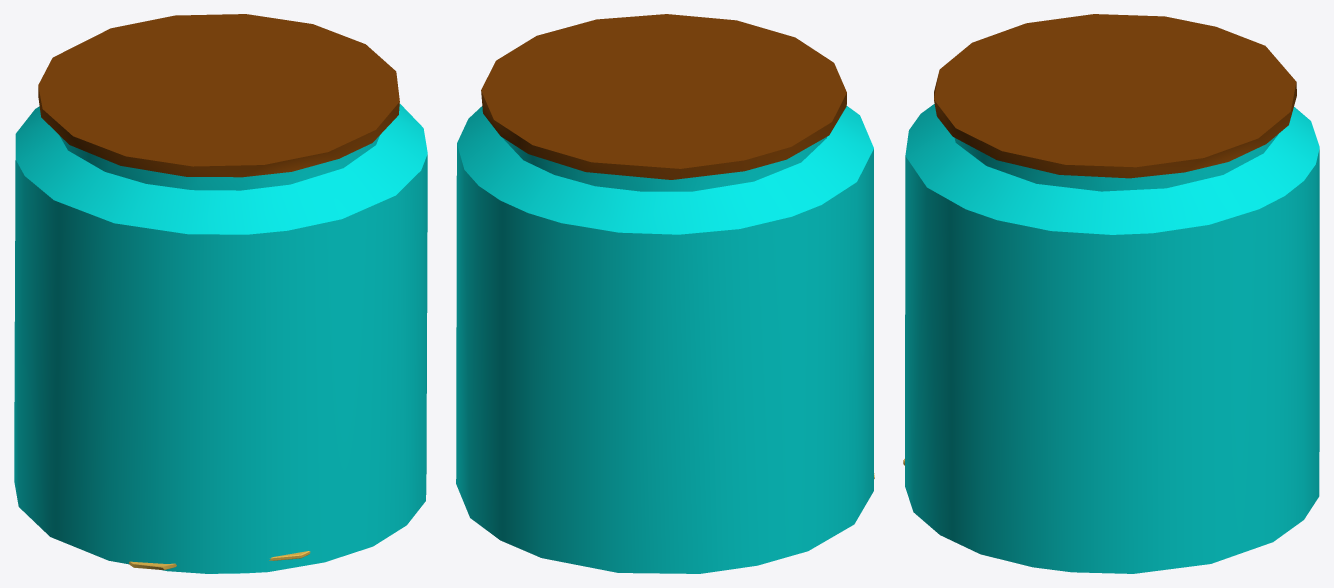
Rendered from Jar_With_Coins_Textured_.fbx.
3 views of the same model, side by side, from view 1: azimuth 30°, elevation 25°; view 2: azimuth 150°, elevation 25°; view 3: azimuth 270°, elevation 25° (orthographic).
Visible parts, largest first — view 1: Cylinder, Cylinder.001; view 2: Cylinder, Cylinder.001; view 3: Cylinder, Cylinder.001.
Boxes of the visible parts, box(x1,y1,x2,y2) form: Cylinder: box(14, 104, 427, 573); Cylinder.001: box(38, 14, 399, 177); Cylinder: box(456, 106, 873, 573); Cylinder.001: box(481, 14, 846, 179); Cylinder: box(905, 104, 1319, 573); Cylinder.001: box(934, 14, 1296, 178).
Size of the model in its own units: 200 by 219 by 201.
